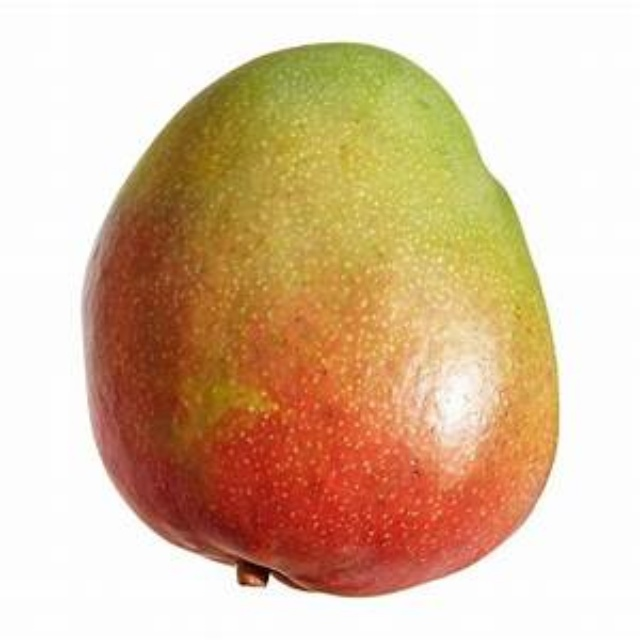mango: (76, 41, 560, 599)
